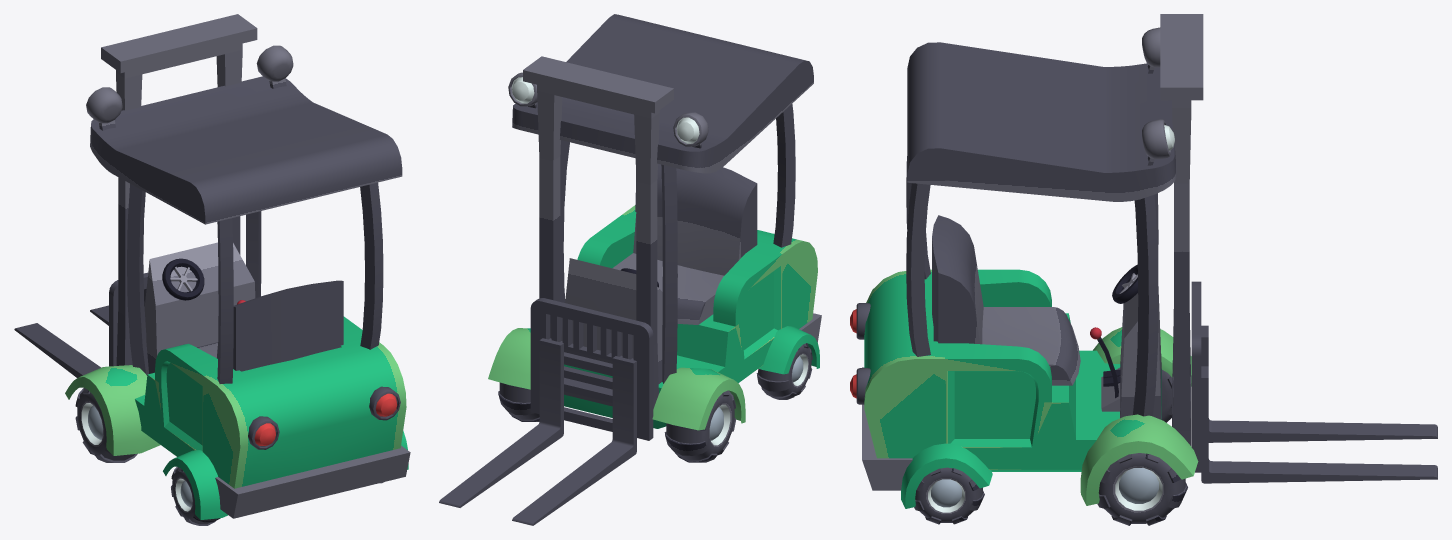
Rendered from sampi.fbx.
3 views of the same model, side by side, from view 1: azimuth 30°, elevation 25°; view 2: azimuth 150°, elevation 25°; view 3: azimuth 270°, elevation 25° (orthographic). The views are drawn at different scales.
Visible parts, largest first — view 1: sampi, sampi_paletas, rueda_dl2, rueda_bk2; view 2: sampi, sampi_paletas, rueda_dl2, rueda_bk2, rueda_dl1; view 3: sampi, sampi_paletas, rueda_dl1, rueda_bk1.
Part boxes in pixels (x1,y1,x2,y2): sampi: (65,14,410,519); sampi_paletas: (14,272,148,377); rueda_dl2: (75,388,137,462); rueda_bk2: (171,466,220,525); sampi: (488,14,821,430); sampi_paletas: (439,298,653,525); rueda_dl2: (664,390,735,462); rueda_bk2: (756,343,812,399); rueda_dl1: (498,382,539,421); sampi: (850,14,1203,508); sampi_paletas: (1191,281,1437,483); rueda_dl1: (1097,453,1187,525); rueda_bk1: (914,467,984,524).
Bounding box in the file's own units: 403 × 674 × 844.
